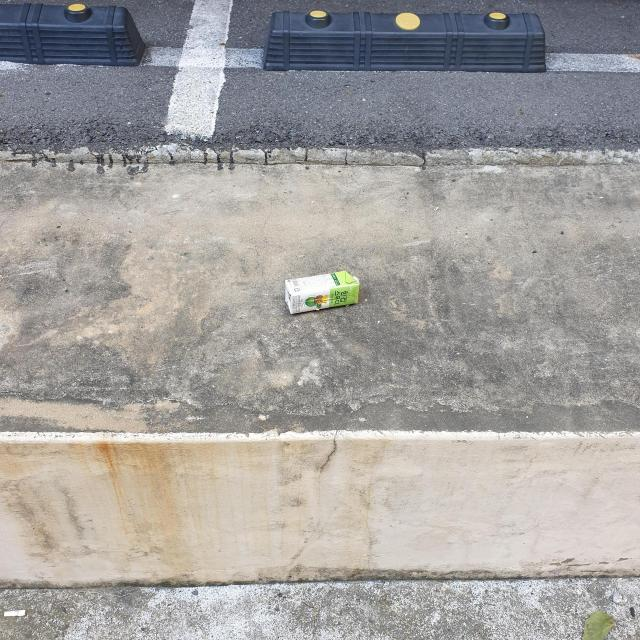paperpack: (285, 271, 360, 314)
